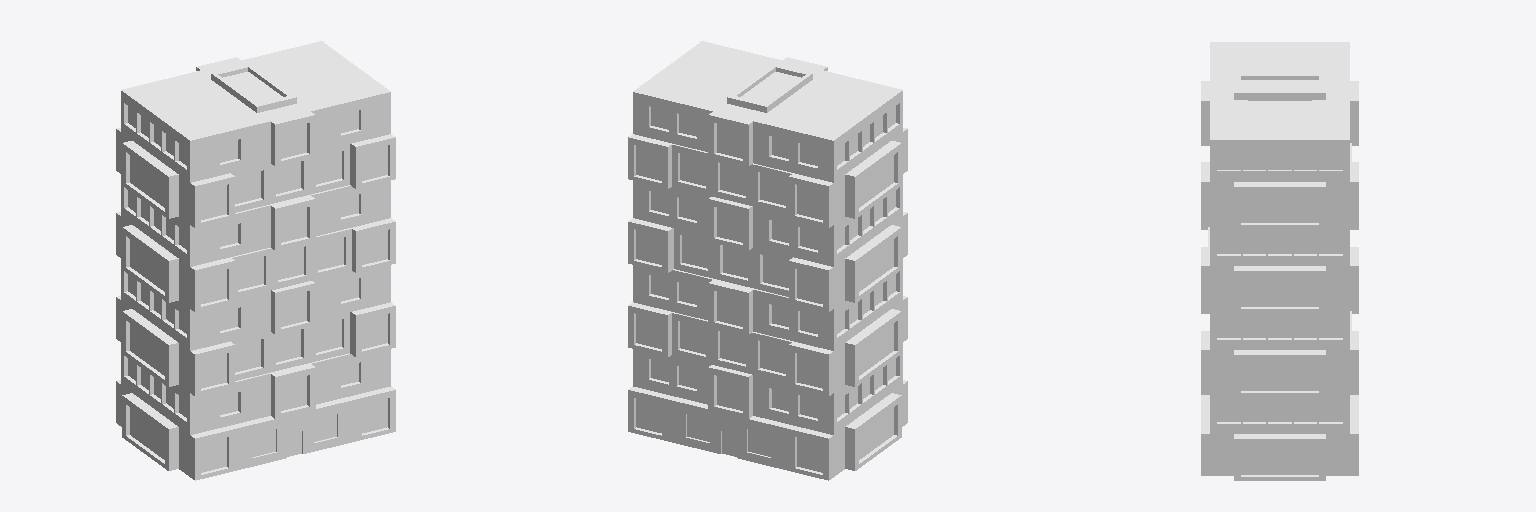
Rendered from Buildings_01-4.obj.
The picture shows the model from 3 angles: view 1: azimuth 30°, elevation 25°; view 2: azimuth 150°, elevation 25°; view 3: azimuth 270°, elevation 25°; orthographic projection.
Visible parts, largest first — view 1: object 1; view 2: object 1; view 3: object 1.
Part boxes in pixels (left/top/right/bottom): object 1: left=116, top=41, right=395, bottom=480; object 1: left=628, top=41, right=907, bottom=480; object 1: left=1201, top=42, right=1358, bottom=480.
Bounding box in the file's own units: 11 × 16.3 × 6.8.